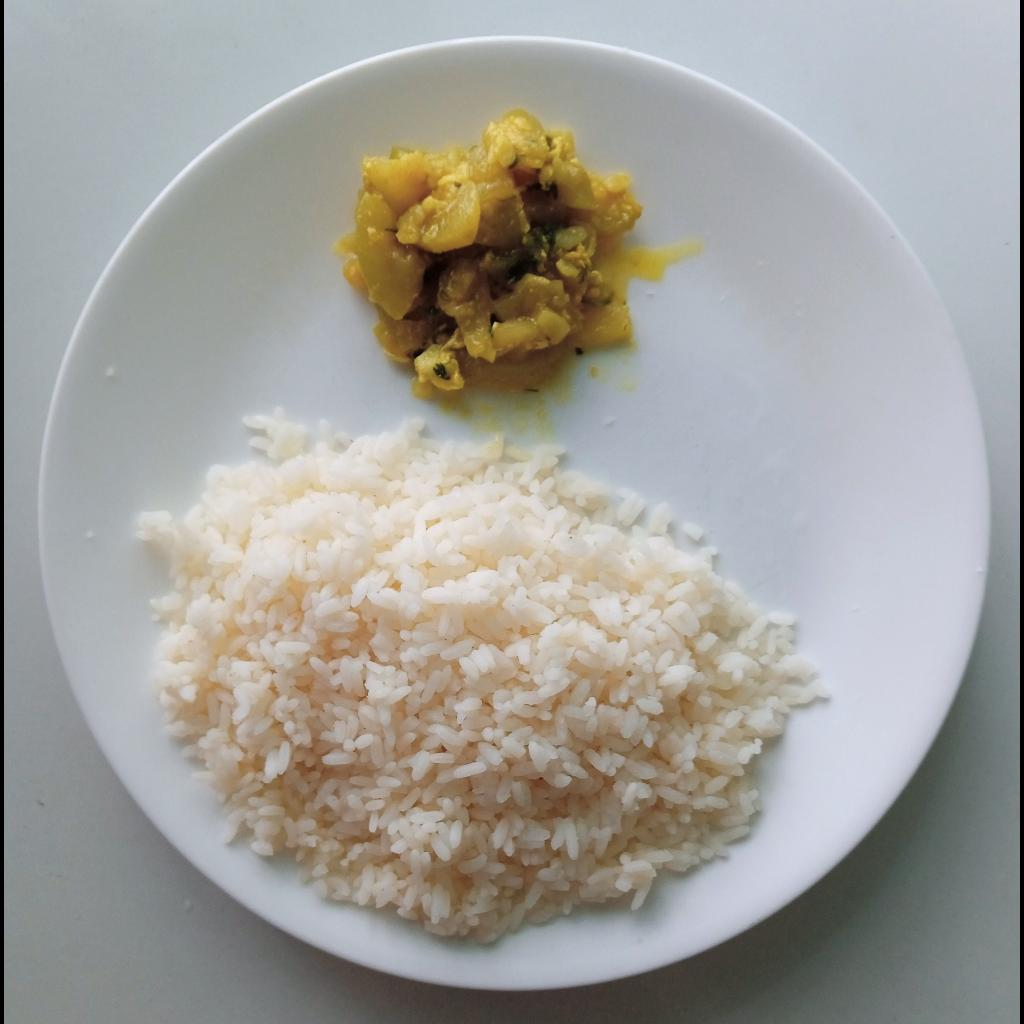lau: (341, 111, 642, 397)
rice: (144, 416, 827, 941)
